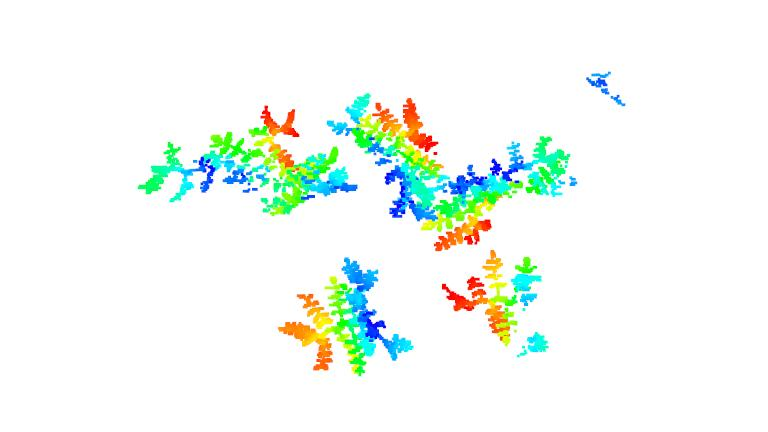chickpea: (278, 251, 415, 371), (429, 131, 576, 240), (345, 89, 442, 227), (245, 102, 359, 218), (437, 250, 553, 358), (121, 127, 244, 209)
